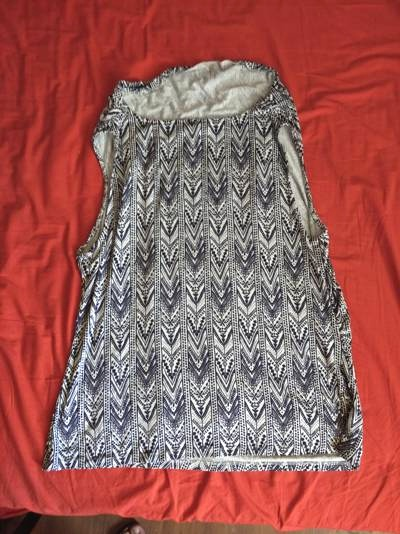Dress: (29, 41, 368, 494)
